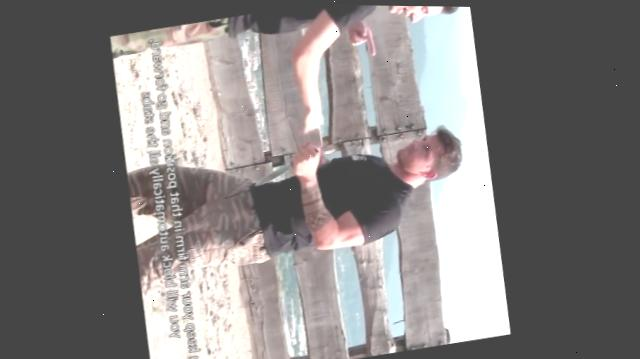pocket-knife: (252, 144, 329, 185)
